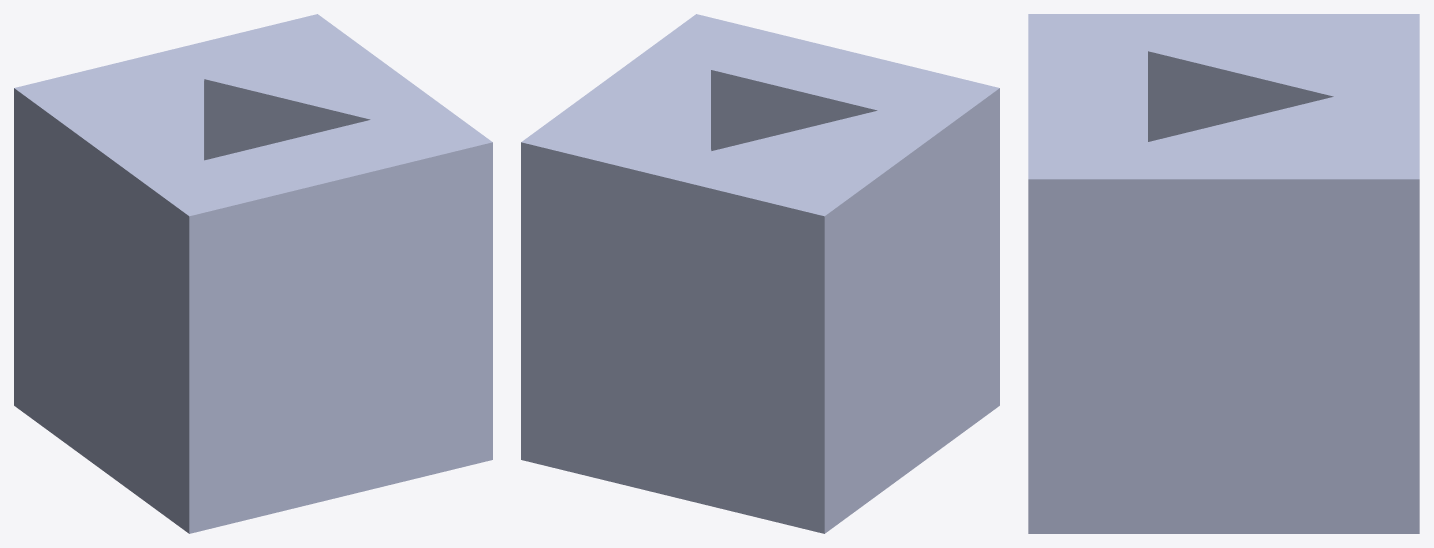
Rendered from triangle.fbx.
The picture shows the model from 3 angles, left to right: view 1: azimuth 30°, elevation 25°; view 2: azimuth 150°, elevation 25°; view 3: azimuth 270°, elevation 25°; orthographic projection. The views are drawn at different scales.
Parts seen in each view (by area): view 1: object; view 2: object; view 3: object.
Part boxes in pixels (x1,y1,x2,y2): object: (14, 14, 492, 533); object: (521, 14, 999, 533); object: (1028, 14, 1419, 533).
Bounding box in the file's own units: 0.002 × 0.002 × 0.002.
